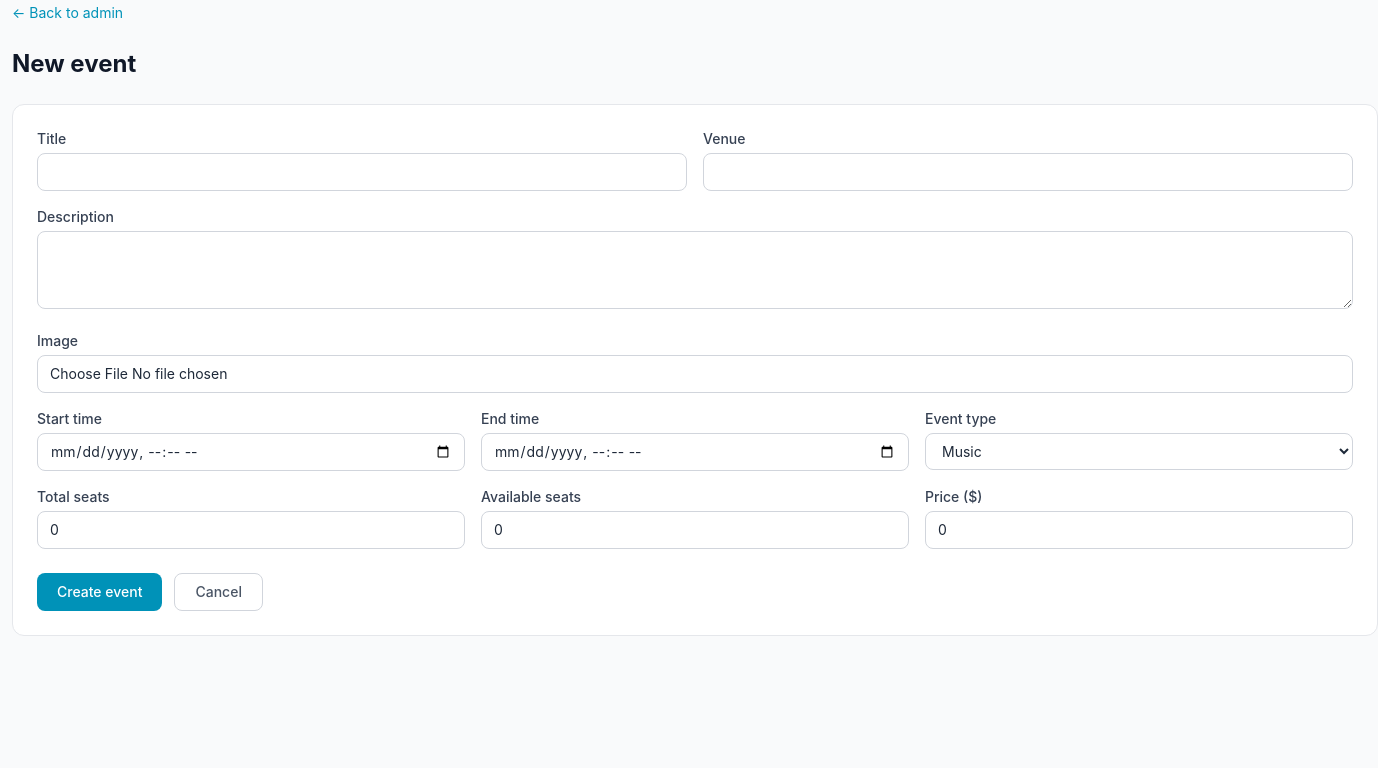
create form shows error message when POST fails
The image size is (1378, 768).
Type "New Show" into the field labelled "Title" at (362, 172), box [37, 153, 687, 191]
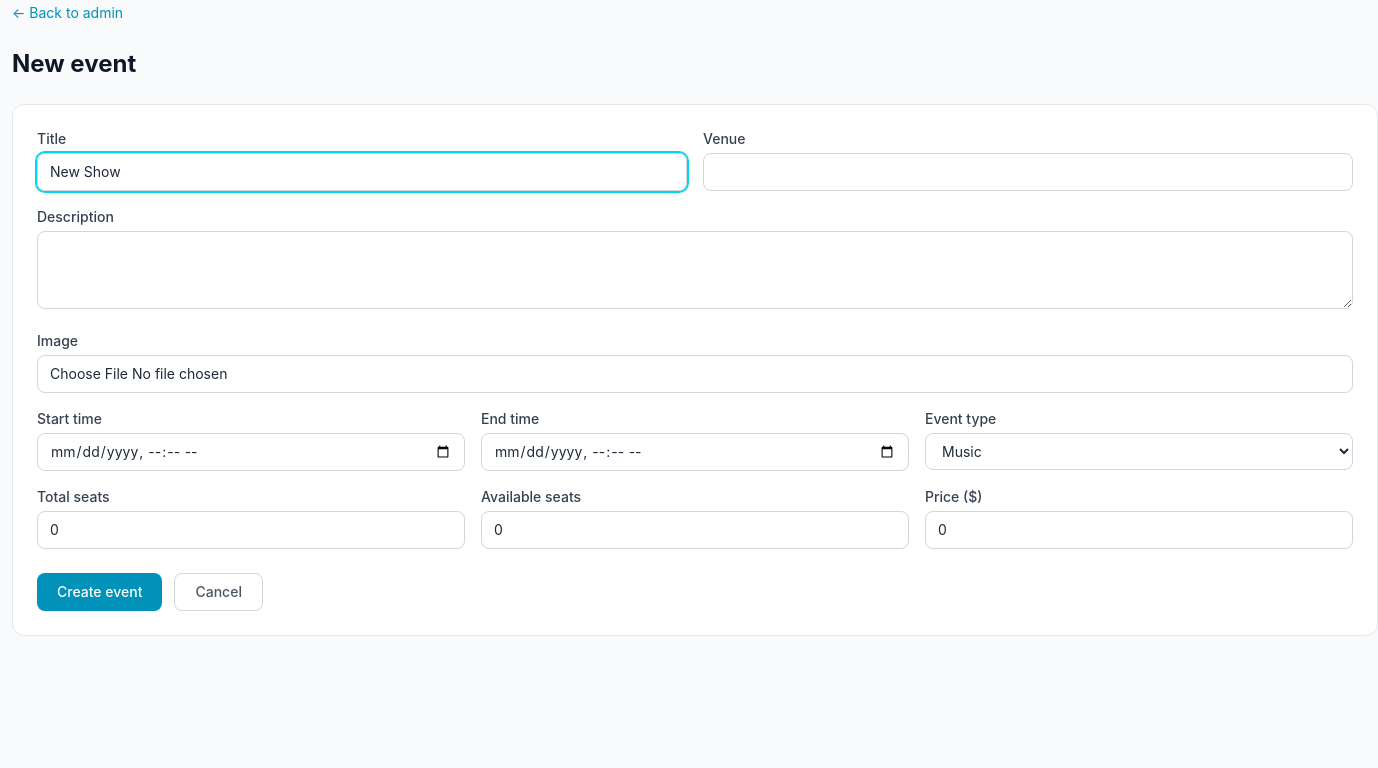
Type "Arena" into the field labelled "Venue" at (1028, 172), box [703, 153, 1353, 191]
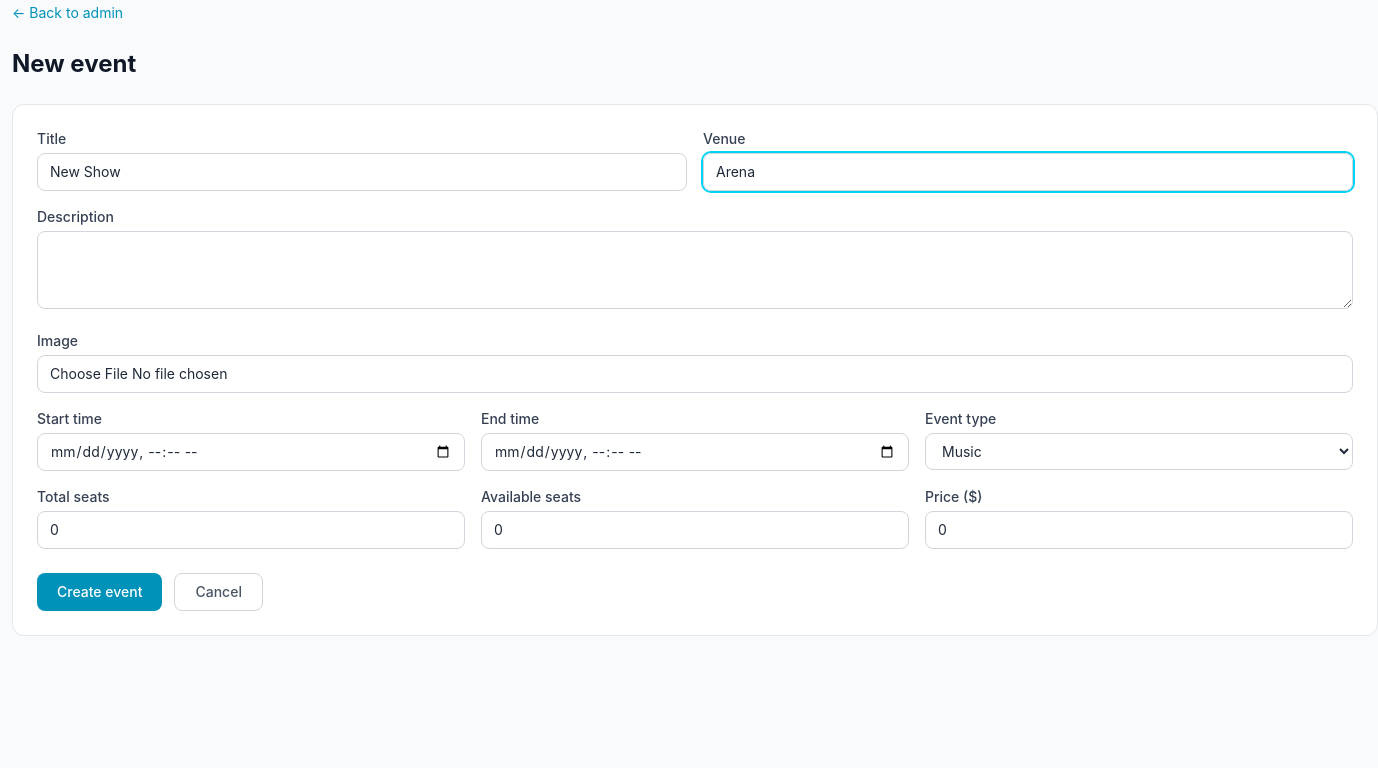
Type "Desc." into the text box labelled "Description" at (695, 270), box [37, 231, 1353, 309]
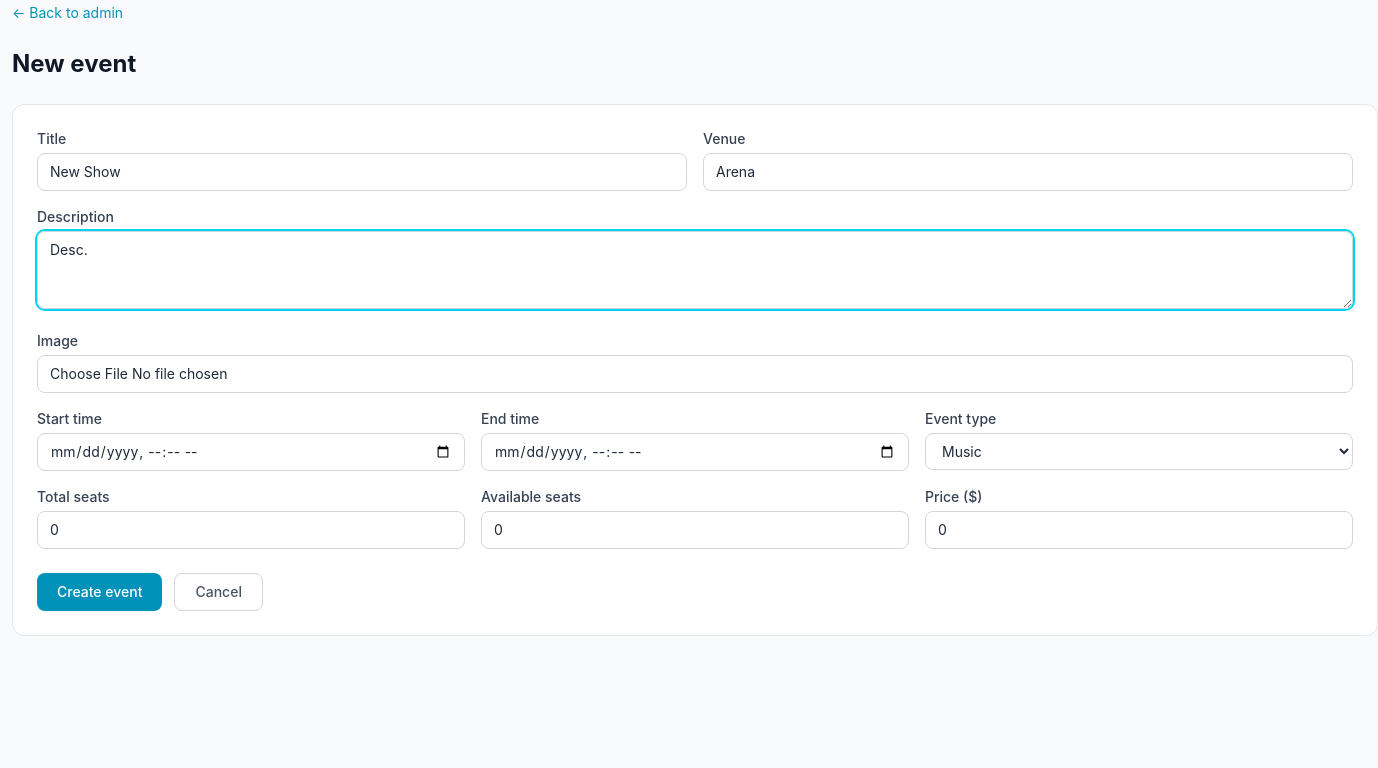
Type "2026-09-01T10:00" into the field labelled "Start time" at (251, 452), box [37, 433, 465, 471]
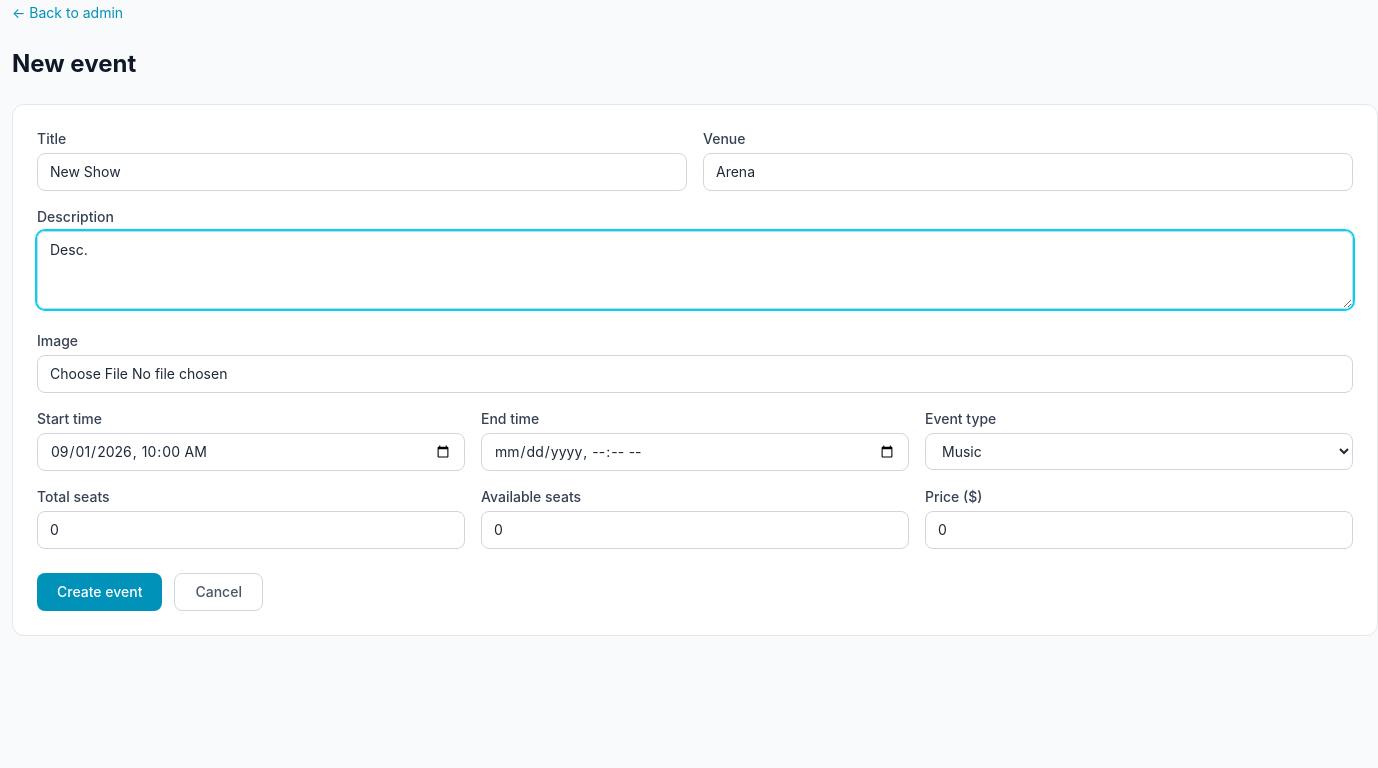
Type "2026-09-01T12:00" into the field labelled "End time" at (695, 452), box [481, 433, 909, 471]
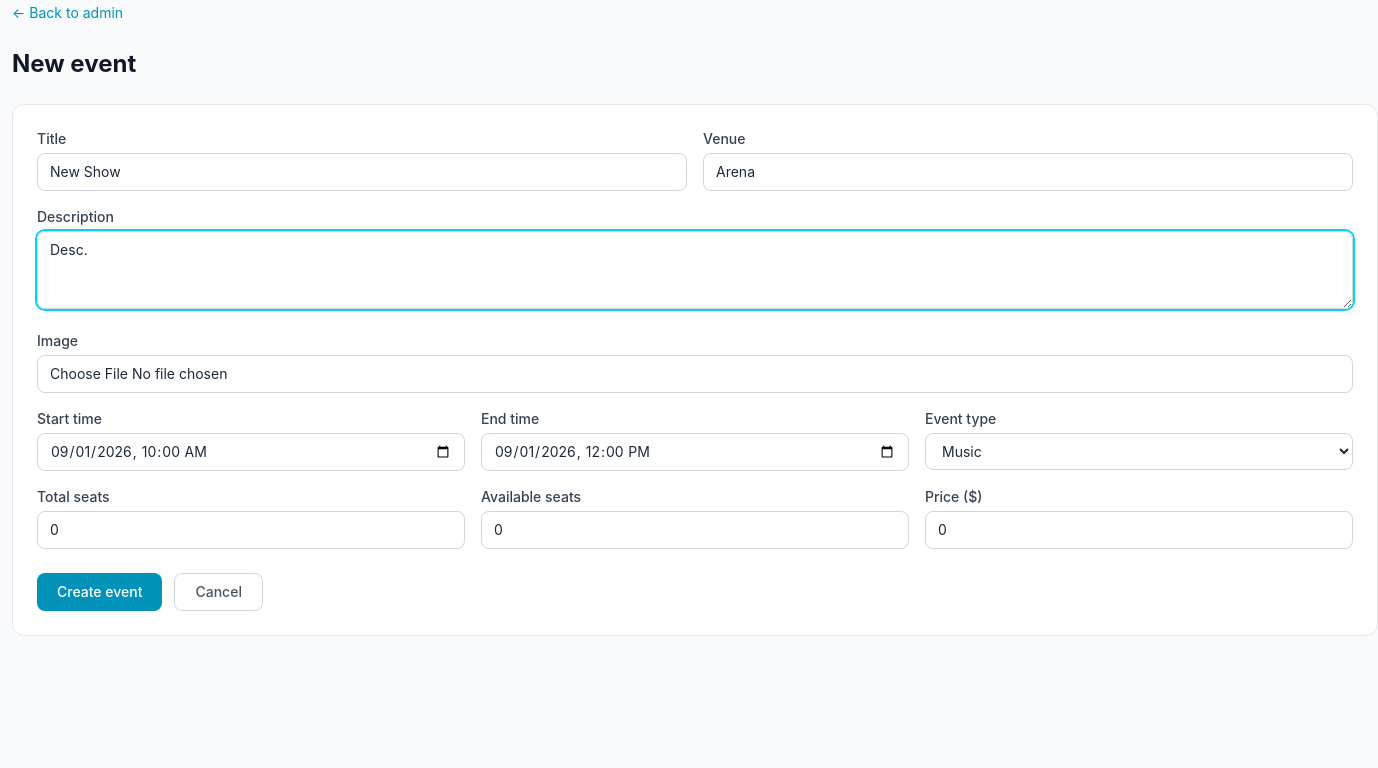
Submit the form named "event form", box [37, 129, 1353, 611]
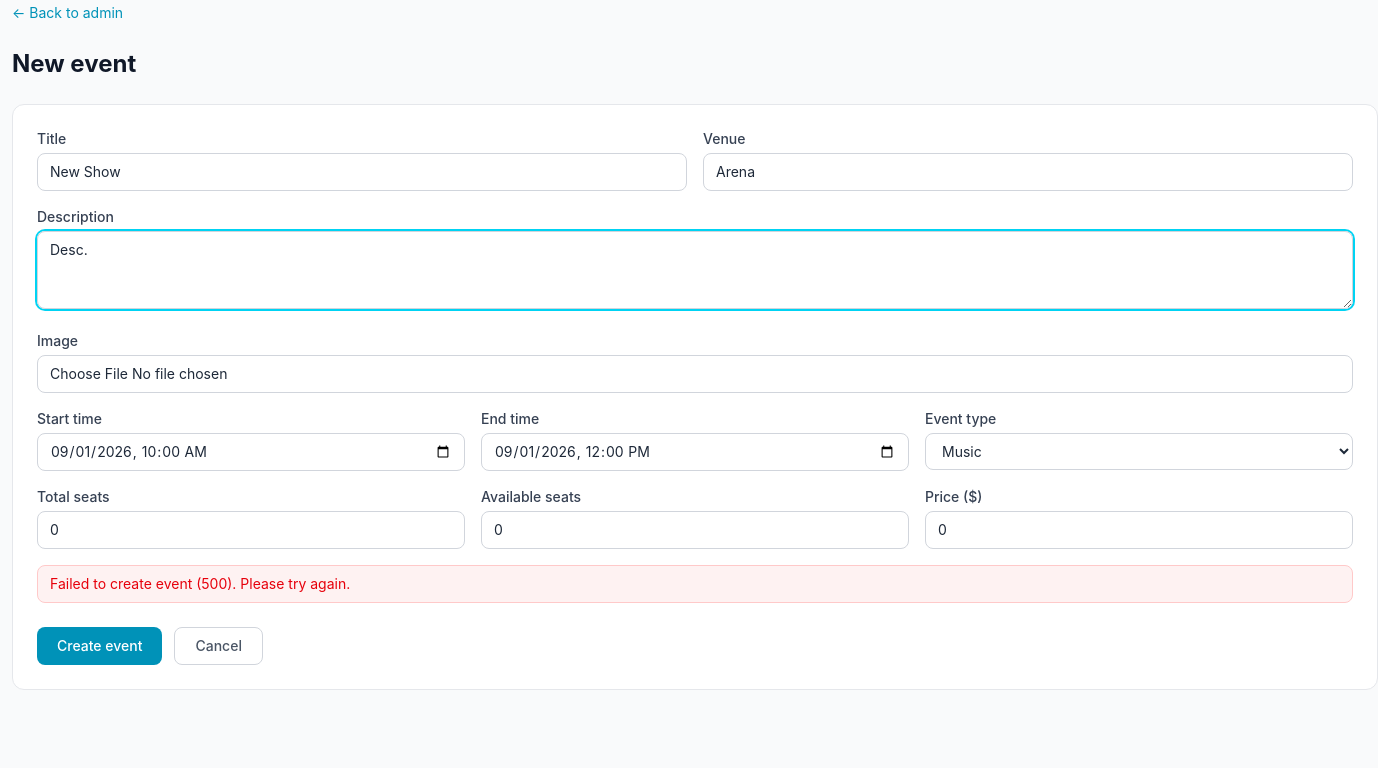
Result: the text "Failed to create event (500). Please try again." is shown at [37, 565, 1353, 603]
